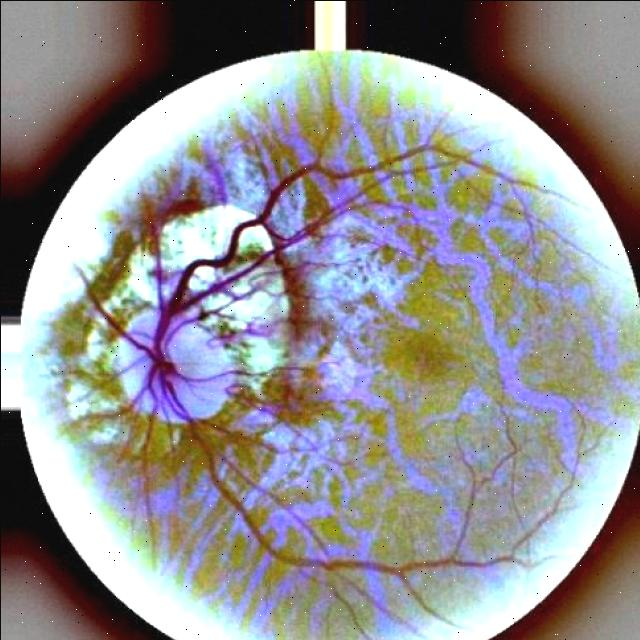Optic Disk: (119, 206, 284, 425)
